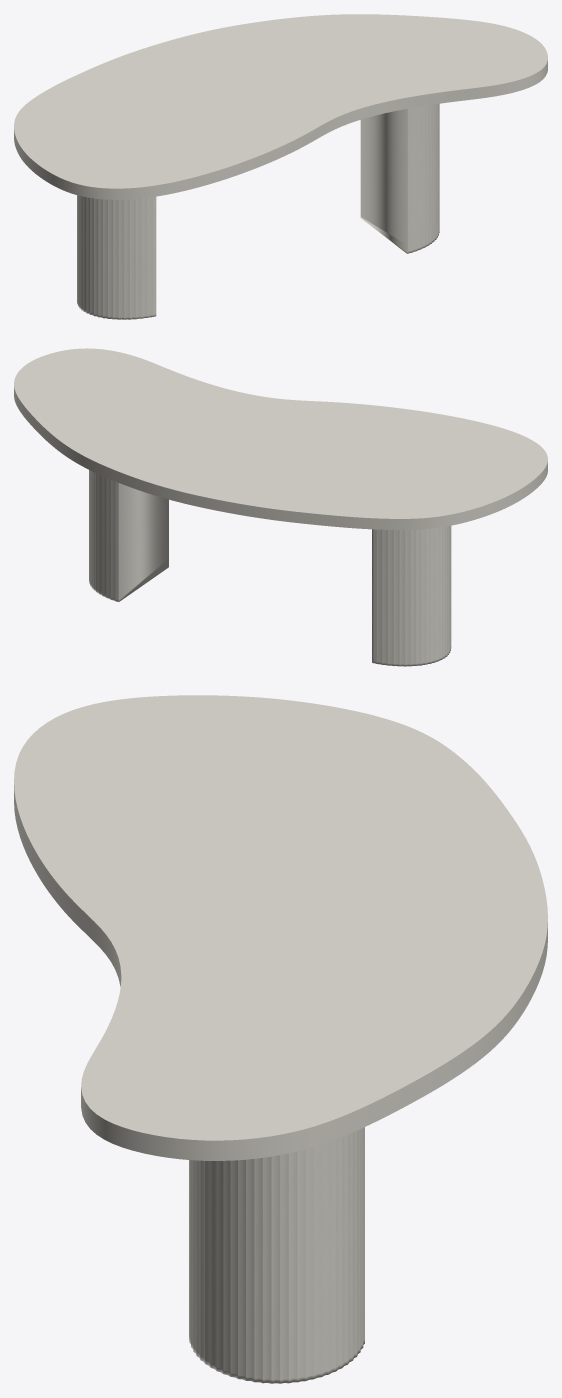
Rendered from pale_leaf1_standard_flute.glb.
The picture shows the model from 3 angles, top to bottom: view 1: azimuth 30°, elevation 25°; view 2: azimuth 150°, elevation 25°; view 3: azimuth 270°, elevation 25°; orthographic projection. The views are drawn at different scales.
Parts seen in each view (by area): view 1: standard_leaf1, flute; view 2: standard_leaf1, flute; view 3: standard_leaf1, flute.
Part boxes in pixels (x1,y1,x2,y2): standard_leaf1: [14, 14, 547, 199]; flute: [77, 103, 439, 319]; standard_leaf1: [14, 348, 547, 529]; flute: [89, 470, 451, 666]; standard_leaf1: [14, 695, 547, 1160]; flute: [189, 1127, 364, 1383].
Bounding box in the file's own units: 7.5 × 2.51 × 3.8.
1 material, 1 textured.
